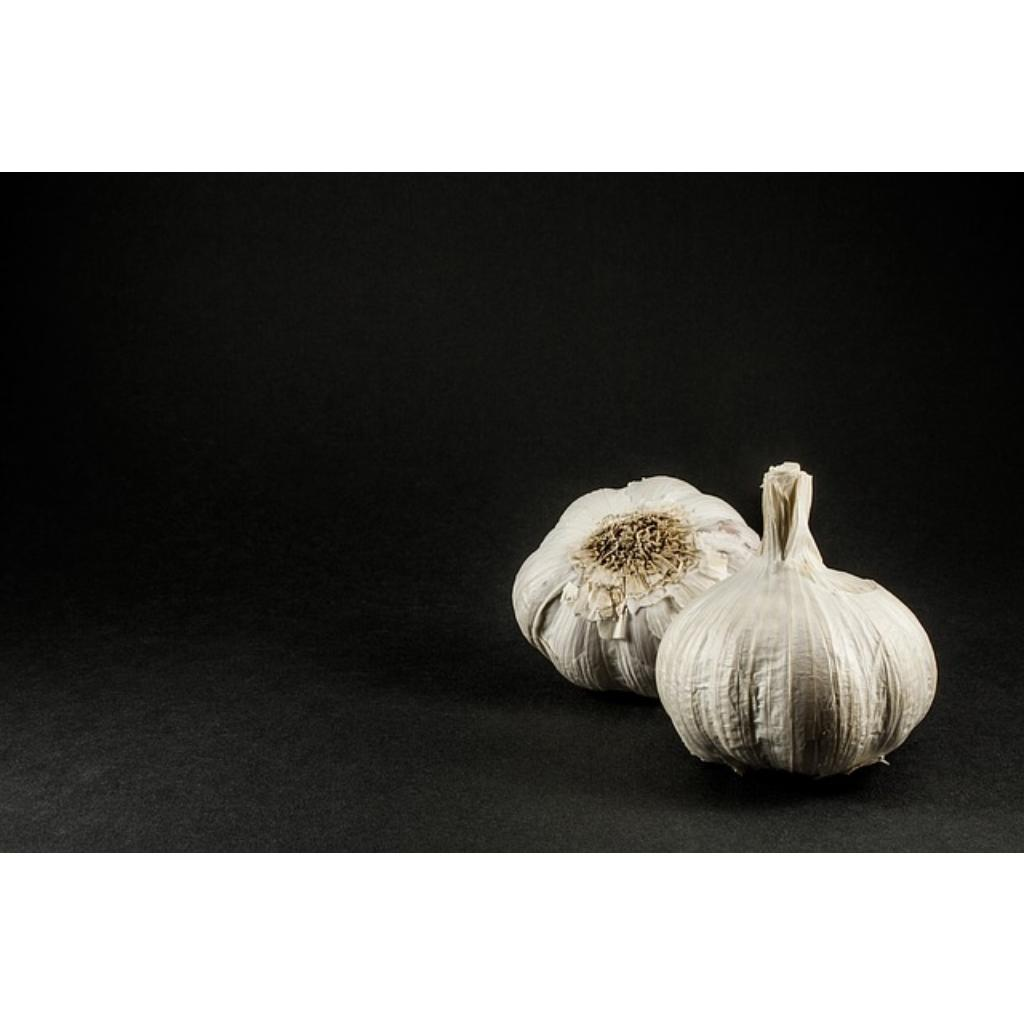garlic: (656, 463, 936, 776), (512, 477, 760, 696)
